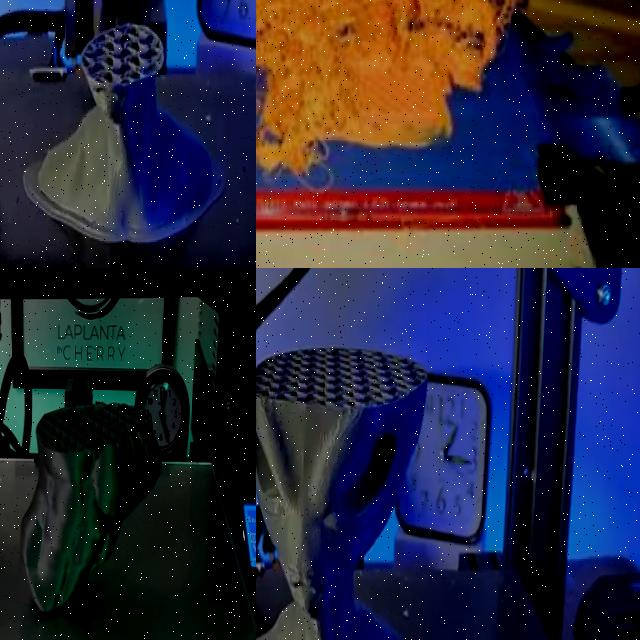spaghetti: (256, 0, 537, 166)
